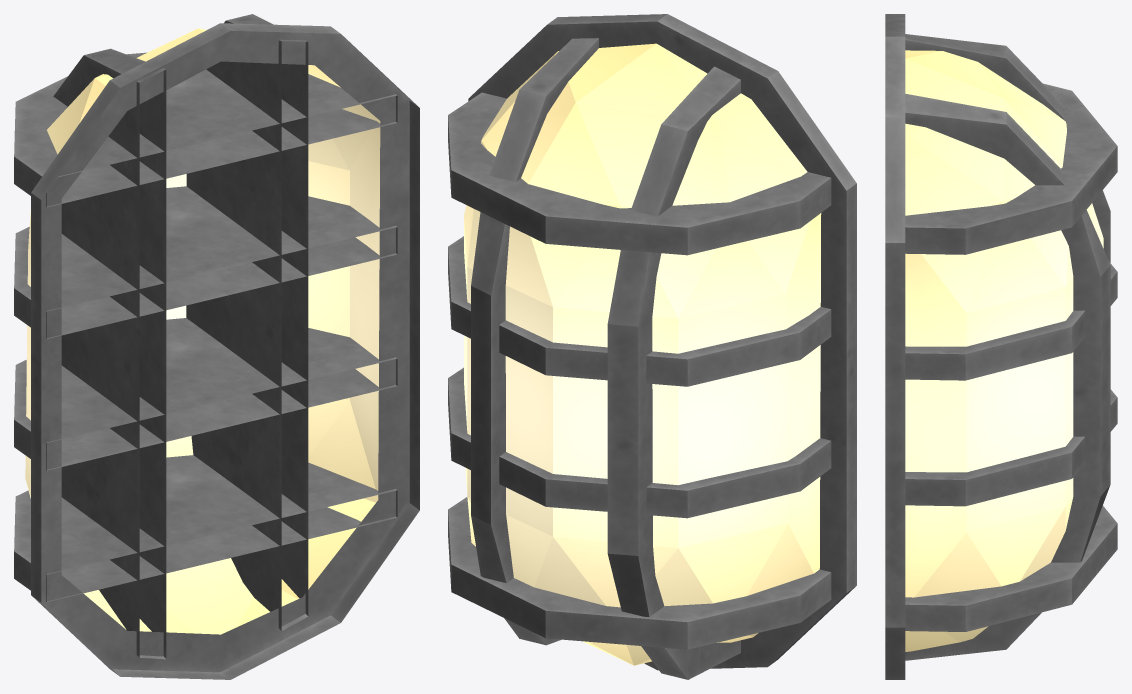
3 views of the same model, side by side, from view 1: azimuth 30°, elevation 25°; view 2: azimuth 150°, elevation 25°; view 3: azimuth 270°, elevation 25° (orthographic). The views are drawn at different scales.
Visible parts, largest first — view 1: WallLightMetalCage, WallLightGlassCover; view 2: WallLightMetalCage, WallLightGlassCover; view 3: WallLightMetalCage, WallLightGlassCover.
Part boxes in pixels (box(x1,y1,x2,y2)): WallLightMetalCage: box(14, 14, 419, 679); WallLightGlassCover: box(25, 28, 380, 634); WallLightMetalCage: box(448, 14, 856, 679); WallLightGlassCover: box(464, 43, 821, 665); WallLightMetalCage: box(885, 14, 1117, 679); WallLightGlassCover: box(905, 50, 1103, 651).
Bounding box in the file's own units: 211 × 345 × 117.
2 materials, 2 textured.
